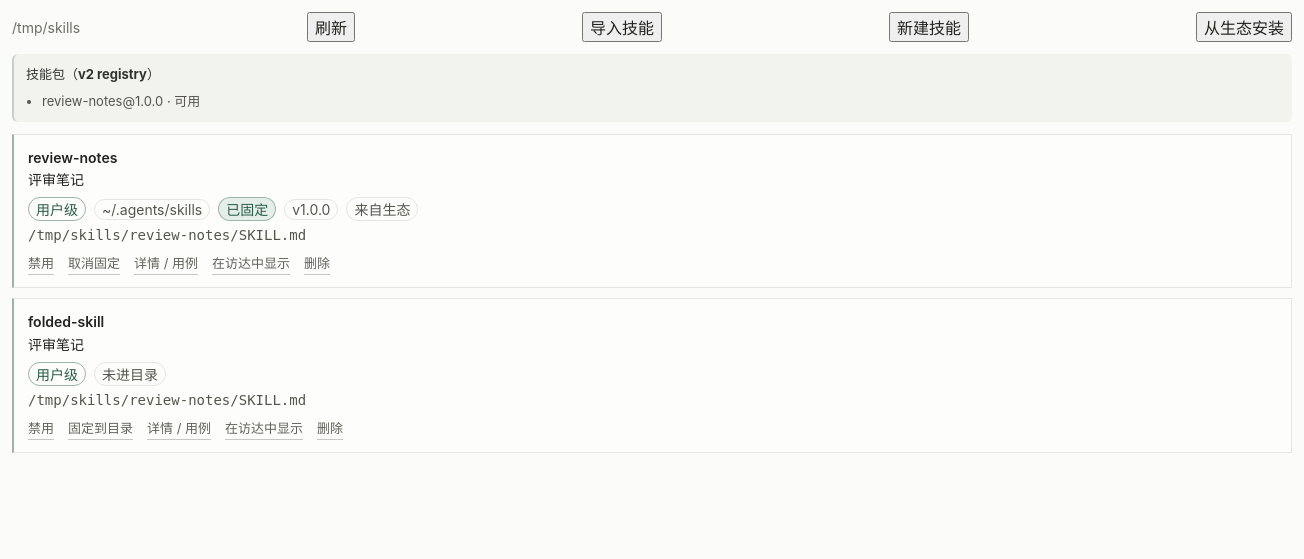
技能工作台（S2） › 导入表单可切换并展示校验入口
The image size is (1304, 559).
Click the button "导入技能". click: (622, 27)
box: [582, 12, 662, 42]
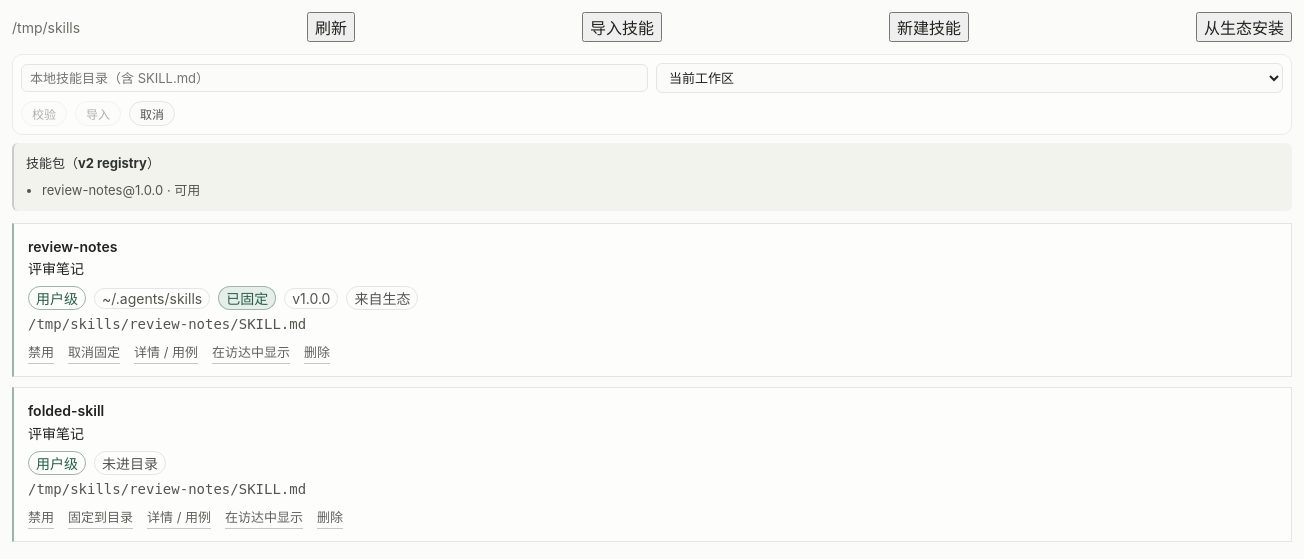
expect the button "校验" is shown: met, box [21, 101, 67, 126]
expect the button "导入" is shown: met, box [75, 101, 121, 126]
